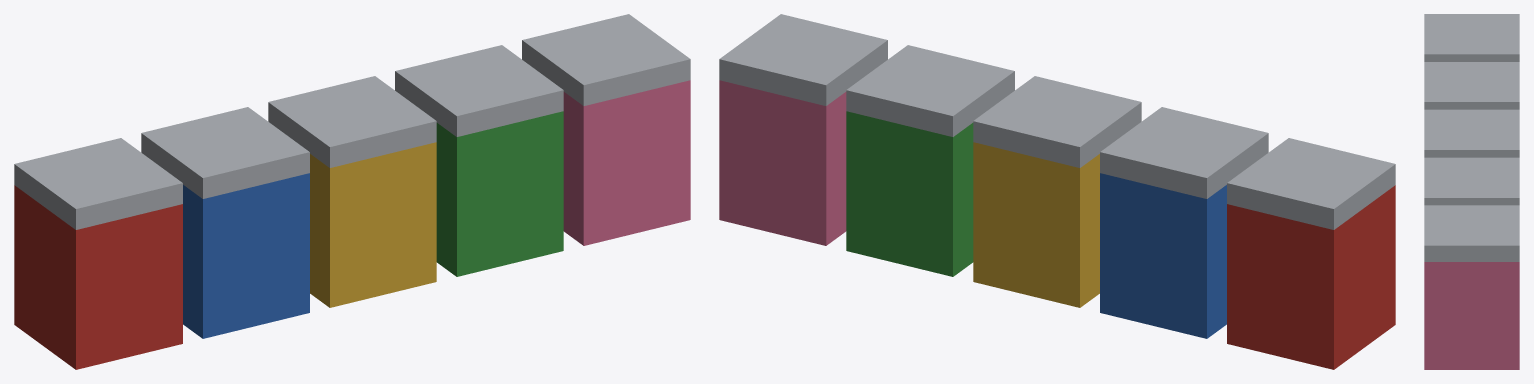
Rendered from cp-shelf-tins.glb.
The picture shows the model from 3 angles, left to right: view 1: azimuth 30°, elevation 25°; view 2: azimuth 150°, elevation 25°; view 3: azimuth 270°, elevation 25°; orthographic projection. The views are drawn at different scales.
Visible parts, largest first — view 1: box-prop; view 2: box-prop; view 3: box-prop.
Boxes of the visible parts, x1,y1,x2,y2 form: box-prop: [14, 14, 690, 369]; box-prop: [719, 14, 1395, 369]; box-prop: [1424, 14, 1519, 369].
Size of the model in its own units: 0.92 by 0.23 by 0.16.
